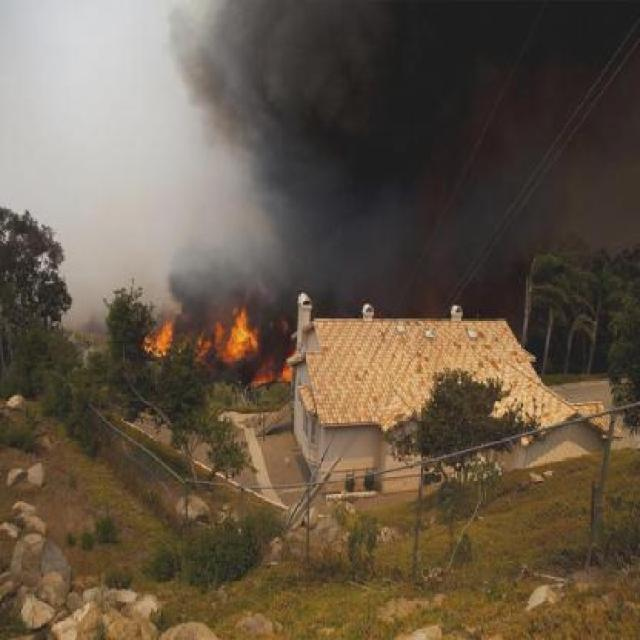Fire: (209, 296, 262, 364), (144, 314, 176, 360), (276, 360, 293, 382), (251, 377, 274, 386)
Smoke: (211, 0, 638, 131), (254, 123, 528, 317), (528, 127, 638, 256)
